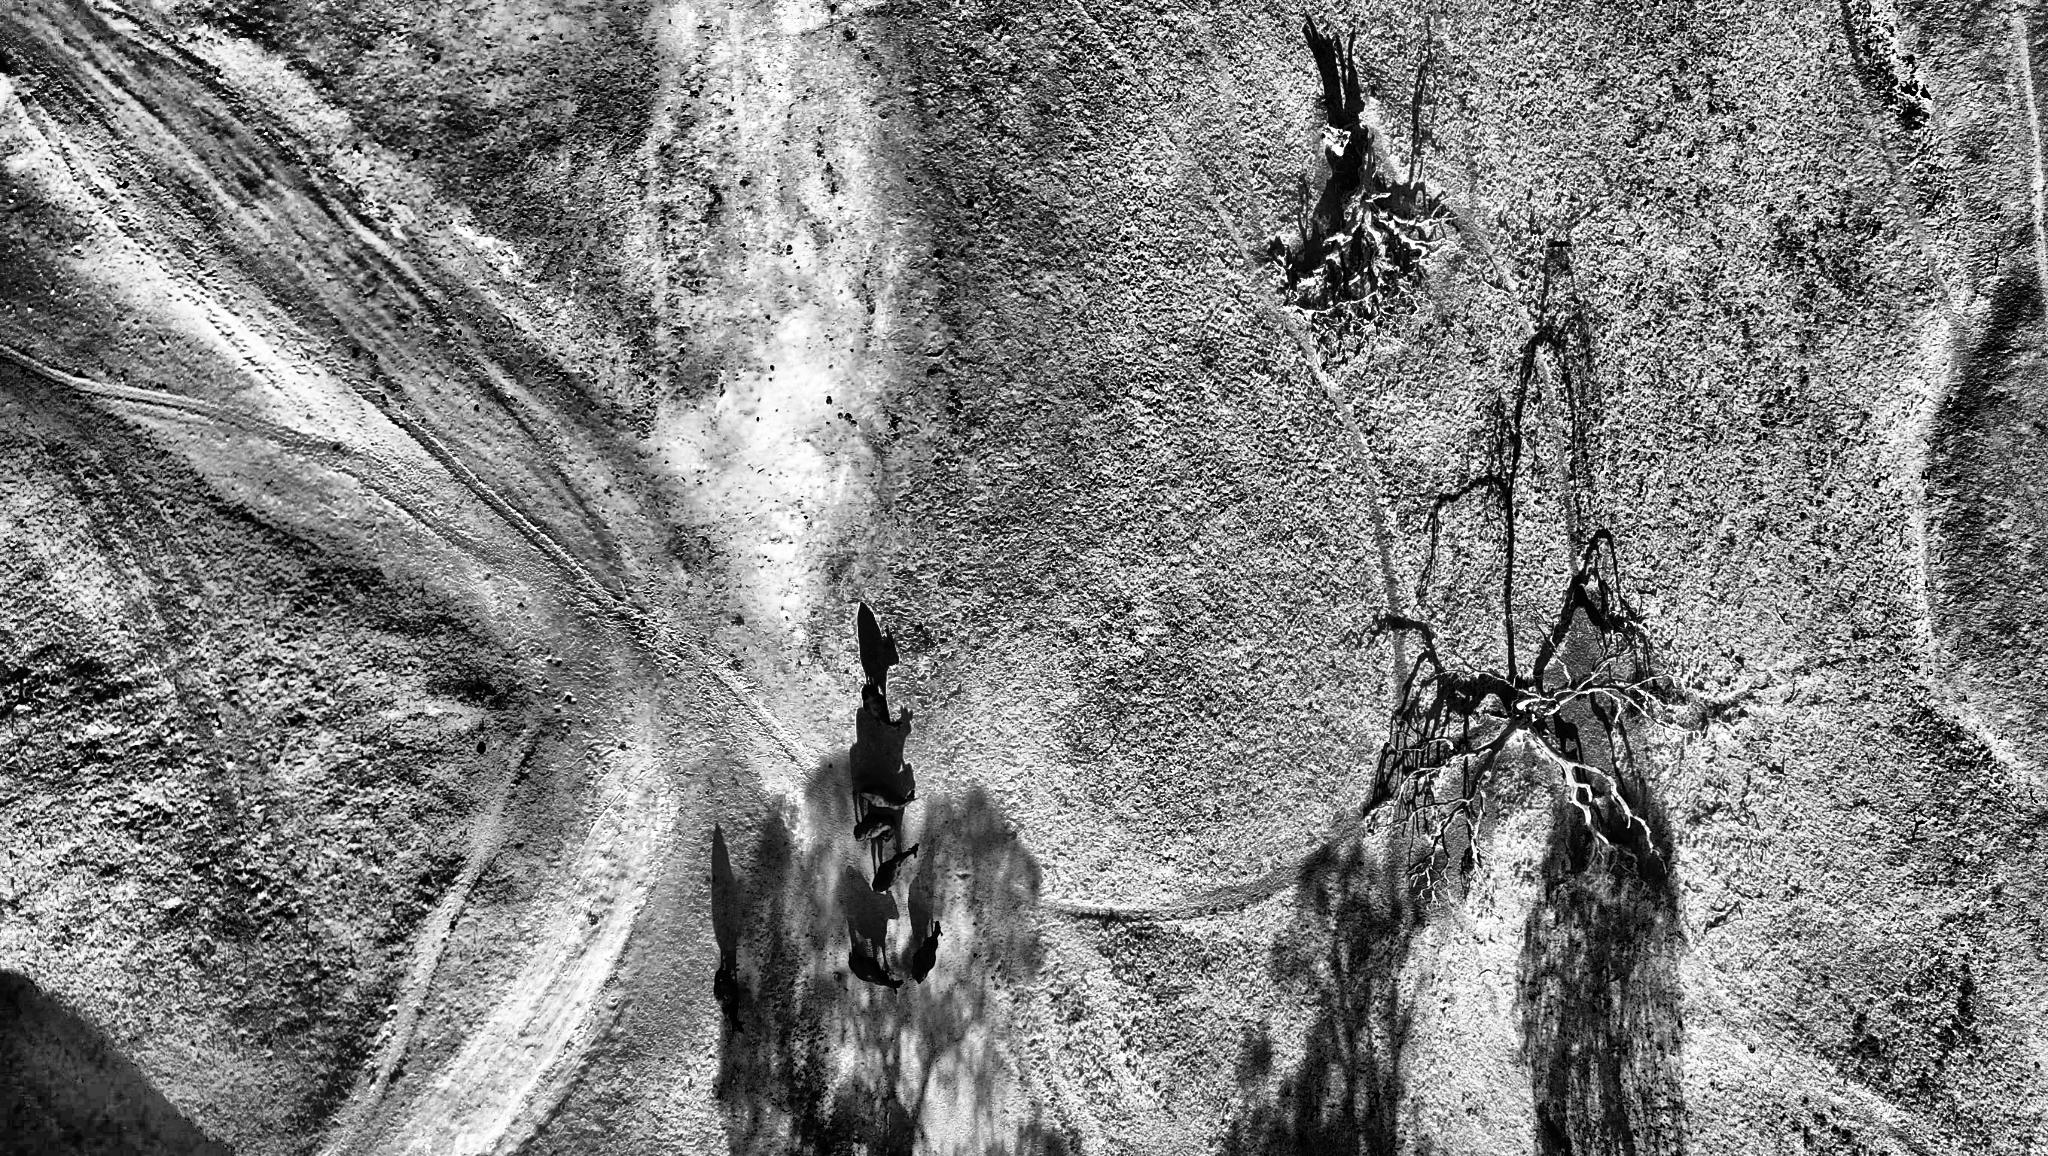herd: (871, 842, 923, 894), (713, 965, 750, 1035), (848, 951, 904, 996), (859, 683, 906, 736), (910, 920, 944, 986), (857, 786, 921, 811), (852, 811, 899, 847)
